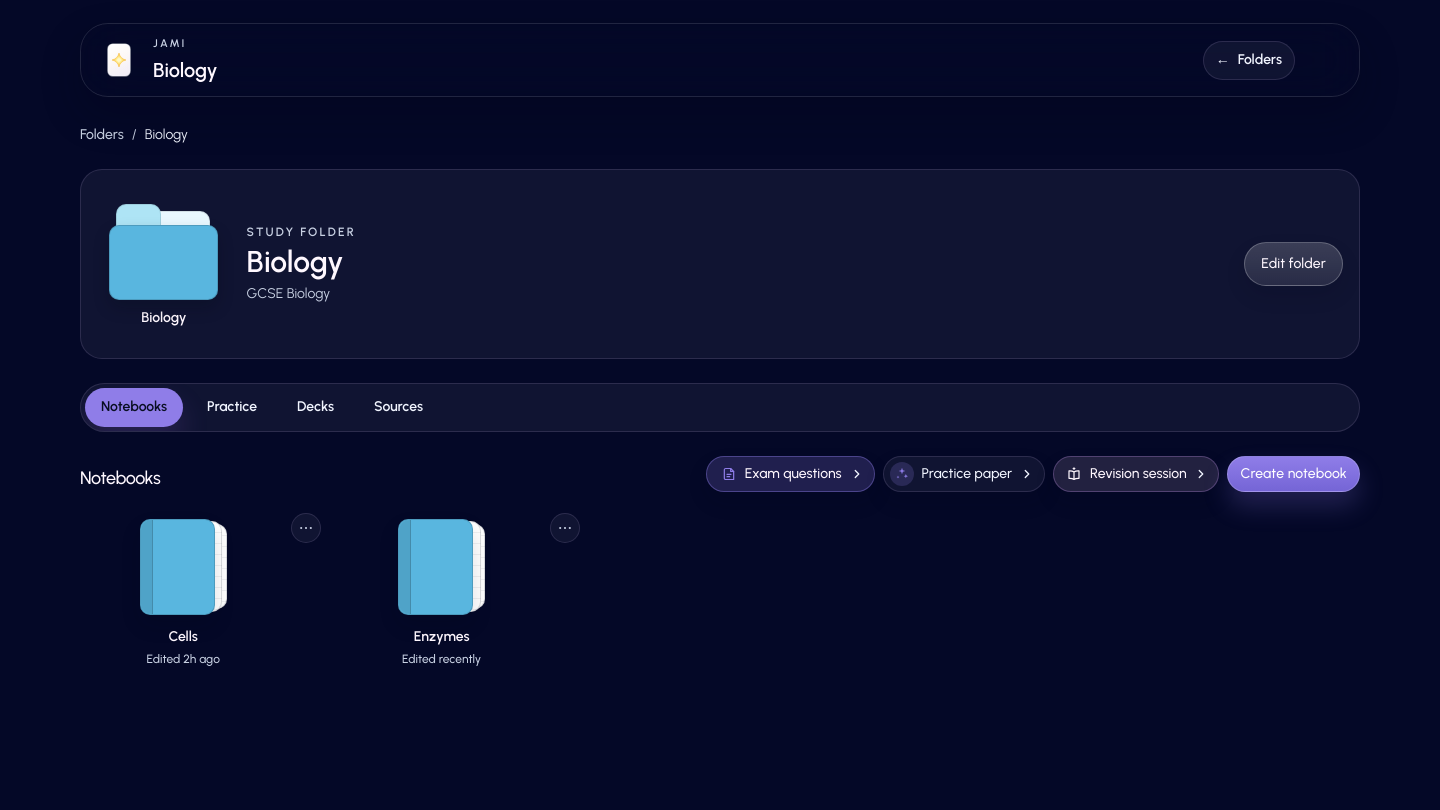
Test: a study folder › adds existing decks from the full list
The image size is (1440, 810).
Click the button "Decks". click: click(316, 407)
box: [281,388,350,427]
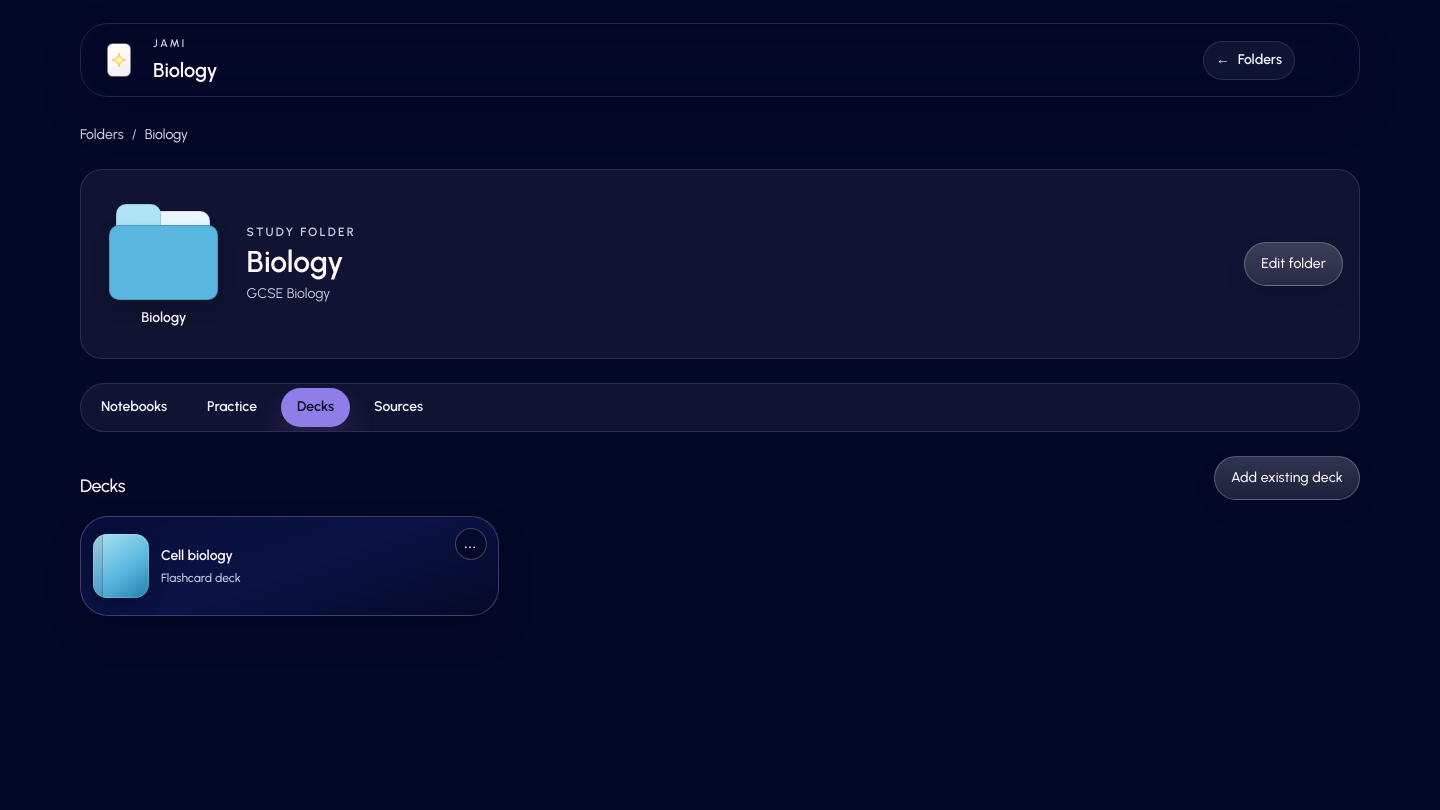
Click the button "Add existing deck". click: click(1287, 478)
box: [1214,456,1360,500]
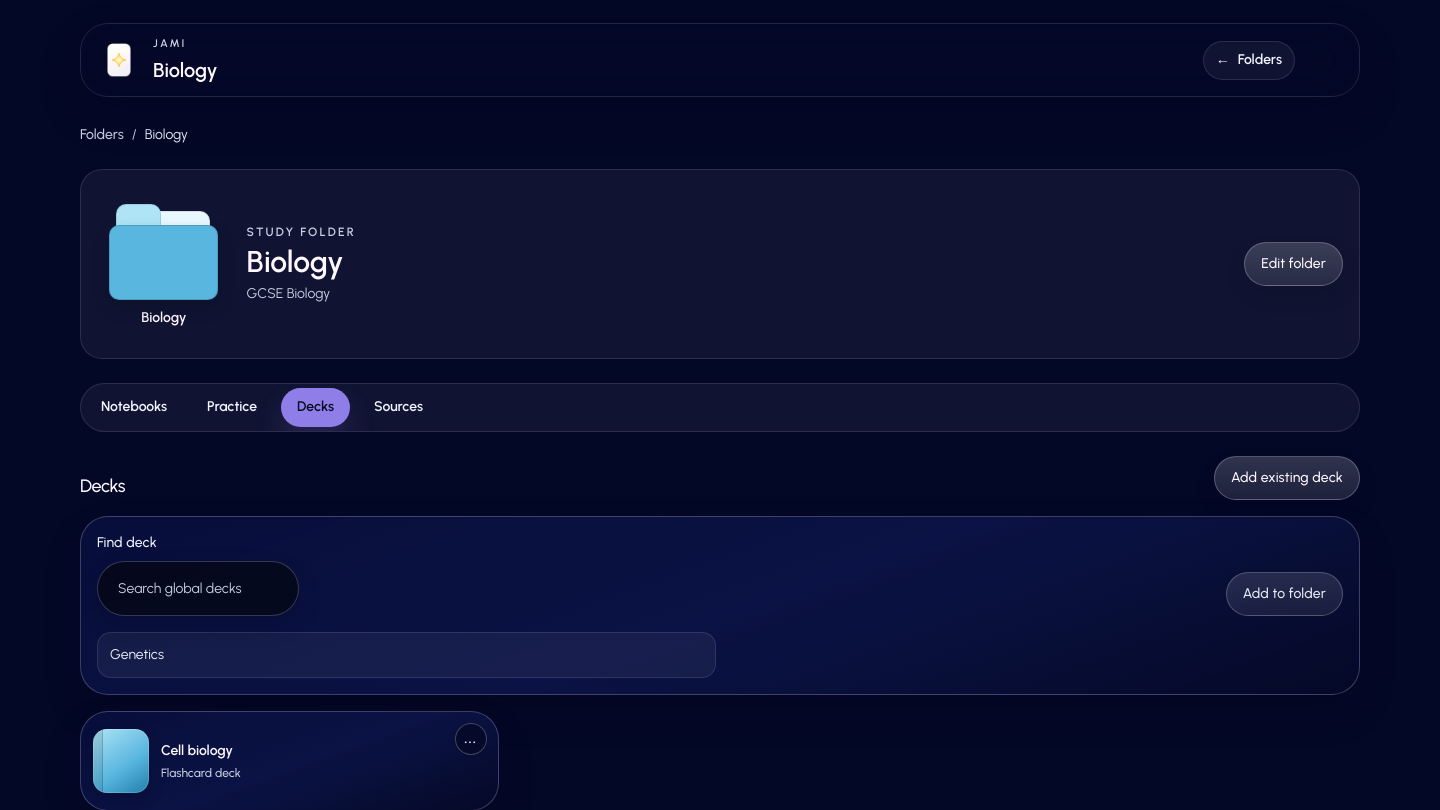
expect the button "Genetics" is shown: met
Click the button "Genetics". click: click(137, 654)
box: [97,632,716,678]
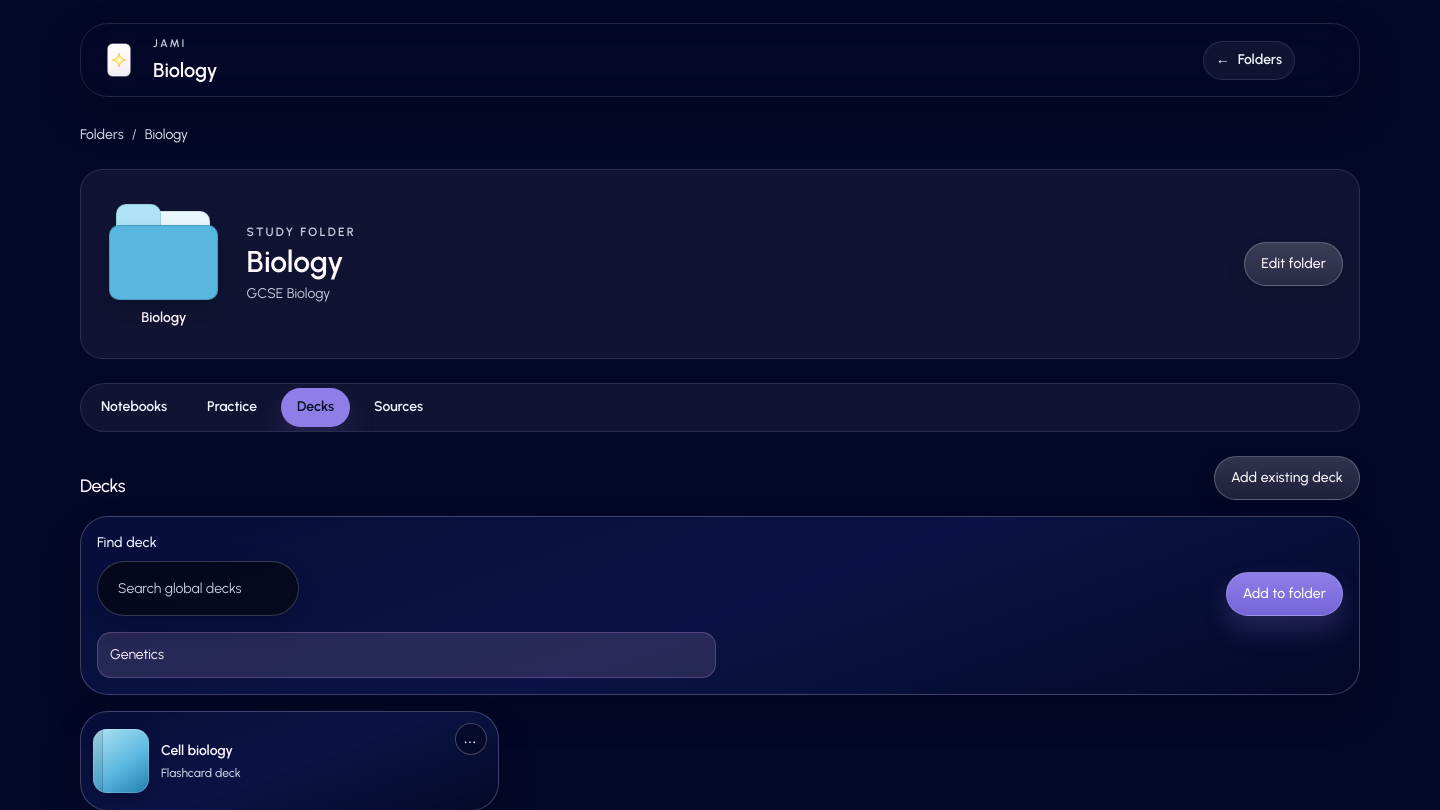
expect the button "Add to folder" is shown: met
Click the button "Add to folder". click: click(1284, 594)
box: [1226,572,1343,616]
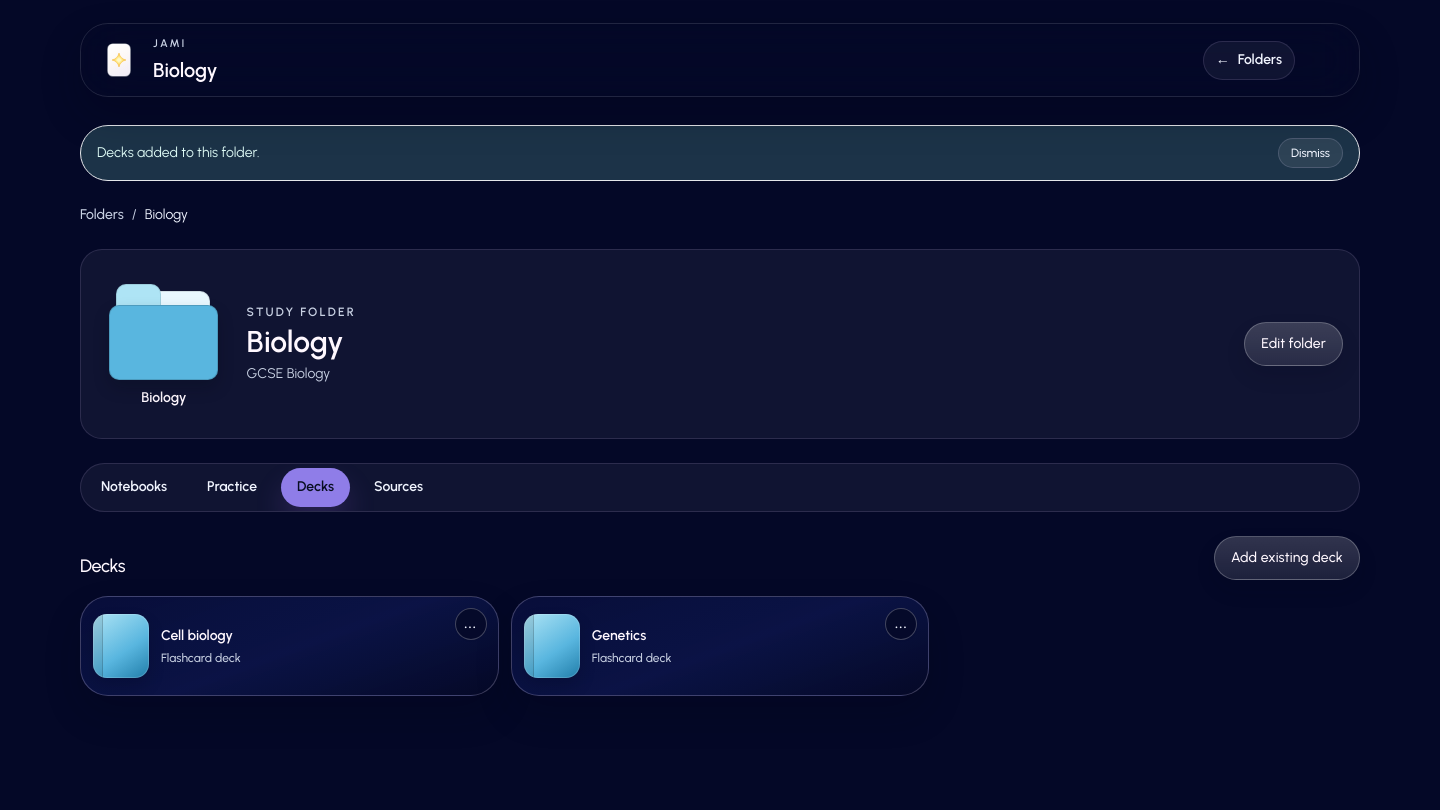
expect the text "Decks added to this folder." is shown: met, box [97,143,260,163]
